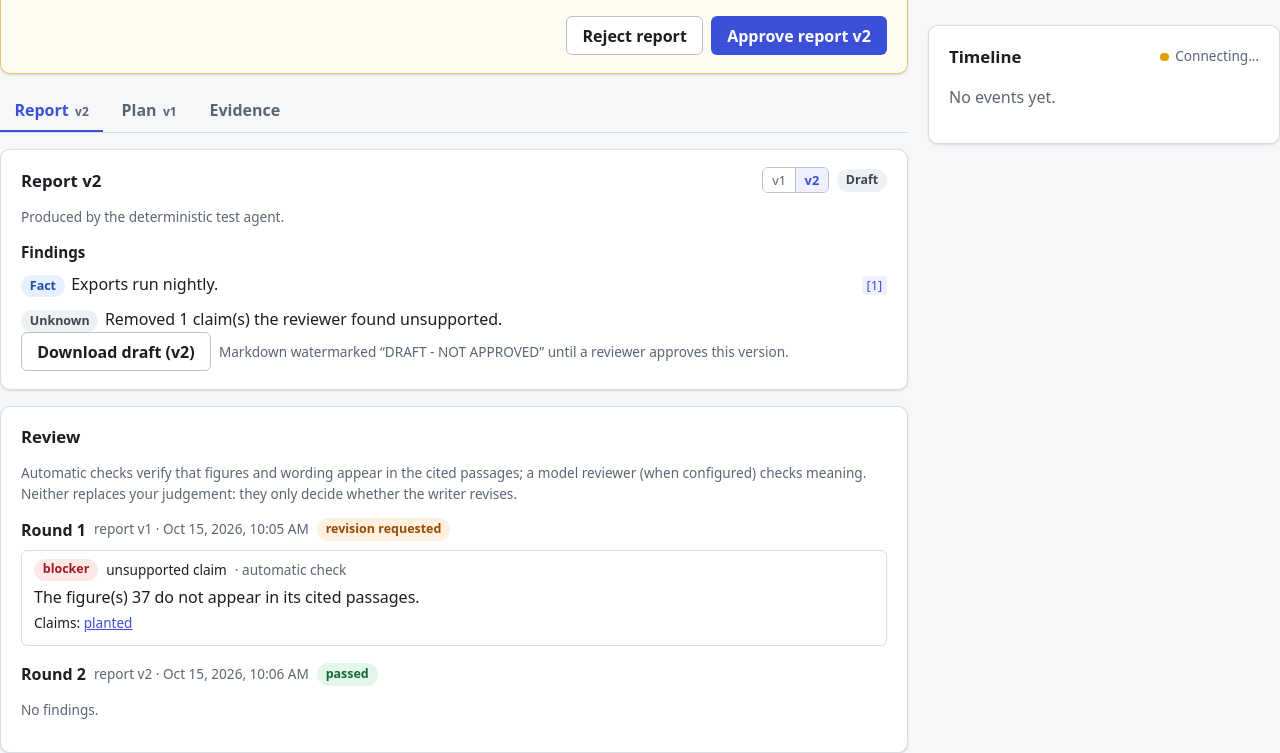
Scenario: RunPage › shows review rounds, jumps to the flagged claim in the earlier version, and exports a draft
(page scrolled)
Expected: the text "revision requested" is shown, [317,518,450,541]
Expected: the text "passed" is shown, [317,663,378,686]
Click the button "planted": (108, 623) [84,613,132,634]
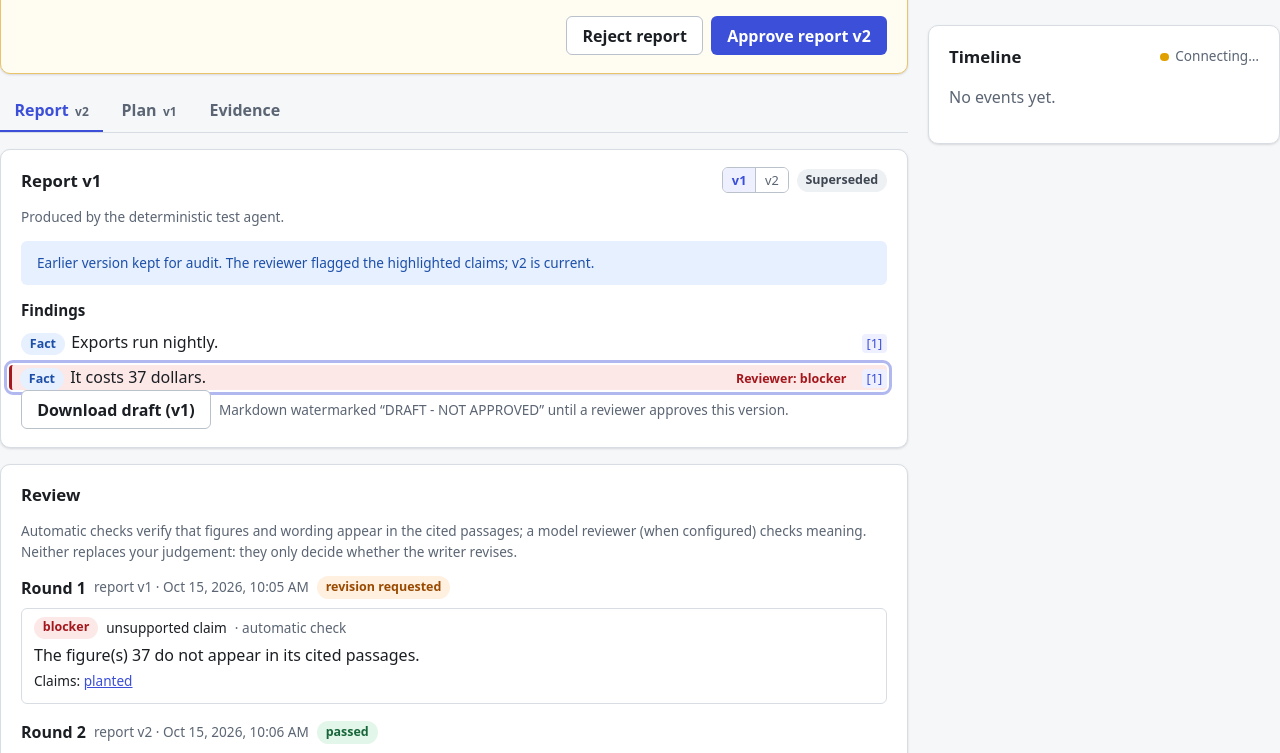
Expected: the text "Superseded" is shown, [797,169,887,192]
Click the button "v2": (772, 180) [755,168,788,192]
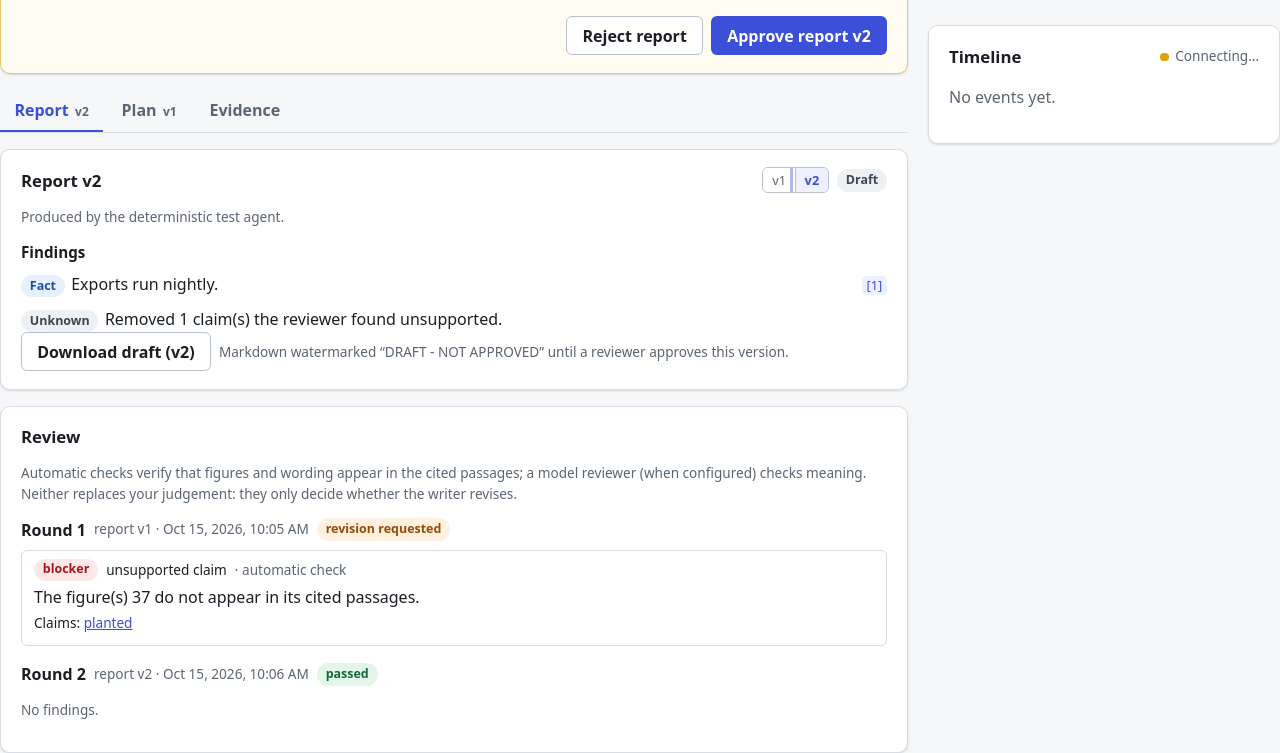
Click the button "Download draft (v2)": (116, 352) [21,332,211,371]
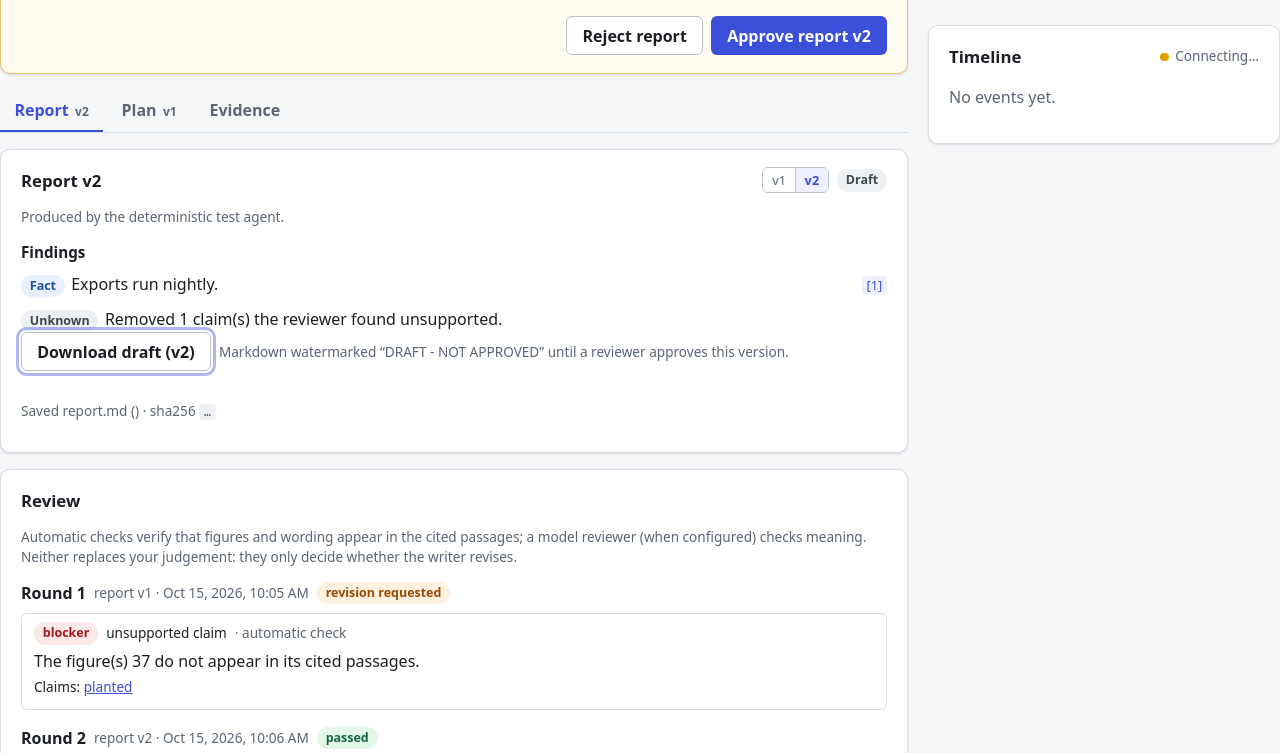
Expected: the message with test id "export-status" shows "Saved report.md", [21,401,216,420]
